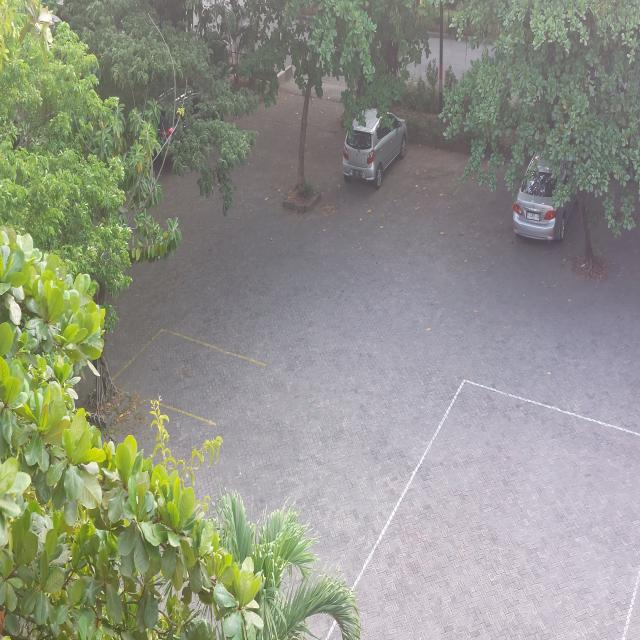empty: (107, 329, 265, 425)
